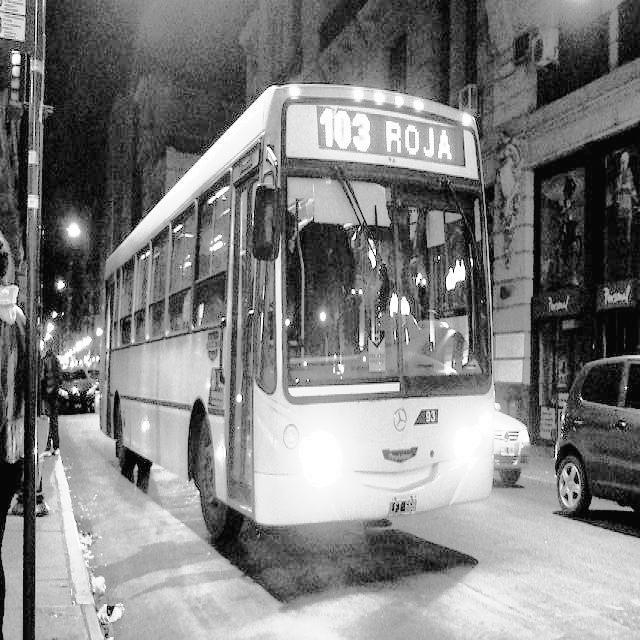Bus: (97, 83, 541, 541)
Car: (558, 310, 640, 599), (481, 345, 555, 522), (61, 352, 104, 459)
